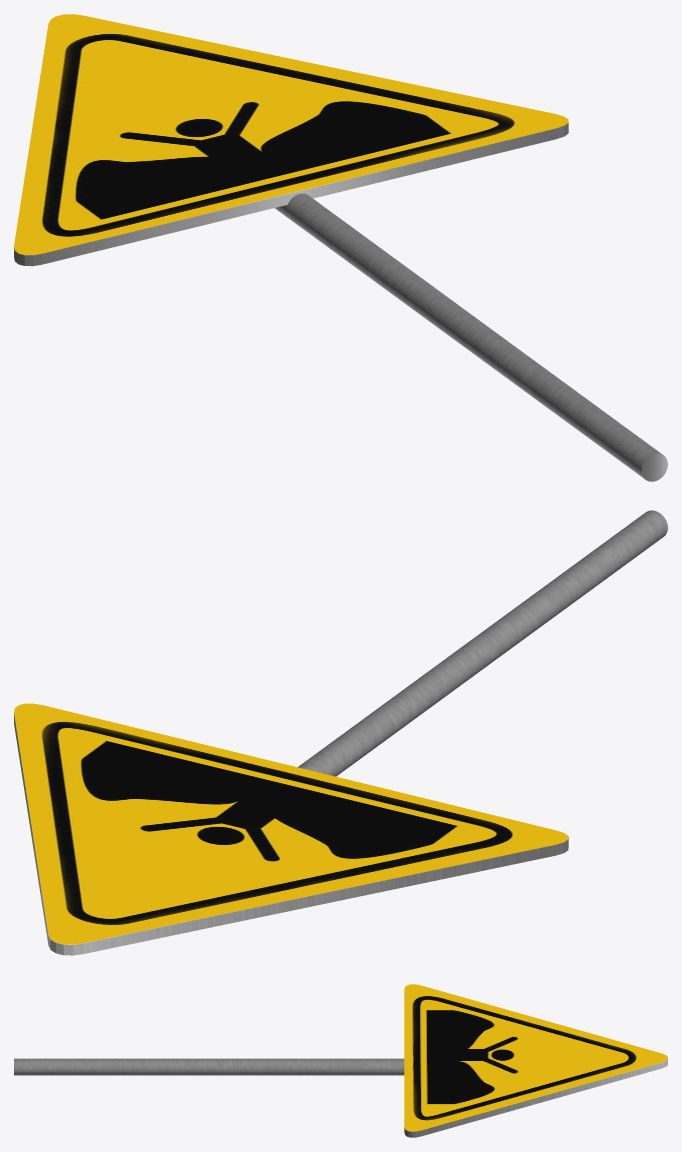
The model's file is Quicksand Sign.fbx.
3 renders of one model, top to bottom at view 1: azimuth 30°, elevation 25°; view 2: azimuth 150°, elevation 25°; view 3: azimuth 270°, elevation 25°, orthographic. The views are drawn at different scales.
Visible parts, largest first — view 1: Circle, Pole, Metal; view 2: Circle, Pole, Metal; view 3: Circle, Pole, Metal.
Boxes of the visible parts, x1,y1,x2,y2 form: Circle: [14, 14, 568, 254]; Pole: [274, 193, 667, 481]; Metal: [14, 122, 568, 266]; Circle: [14, 703, 568, 944]; Pole: [298, 510, 667, 776]; Metal: [14, 714, 568, 955]; Circle: [404, 984, 667, 1131]; Pole: [14, 1058, 404, 1075]; Metal: [404, 1059, 667, 1137].
Size of the model in its own units: 176 by 9.39 by 331.
2 materials, 2 textured.
